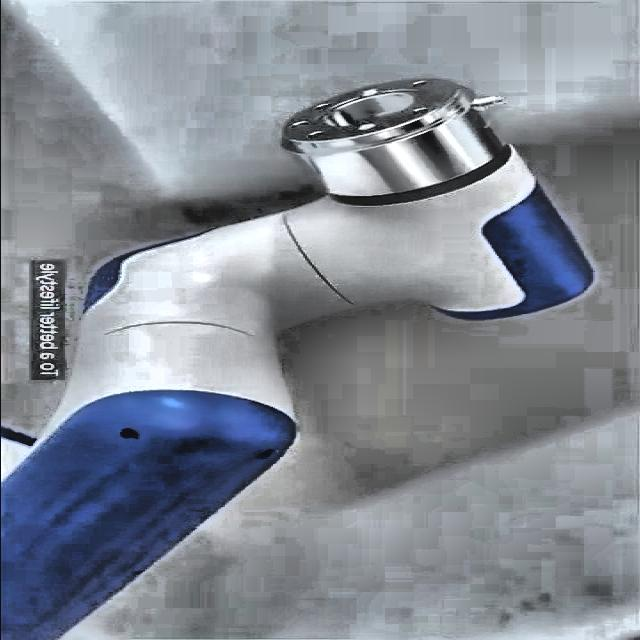robot: (4, 78, 598, 640)
